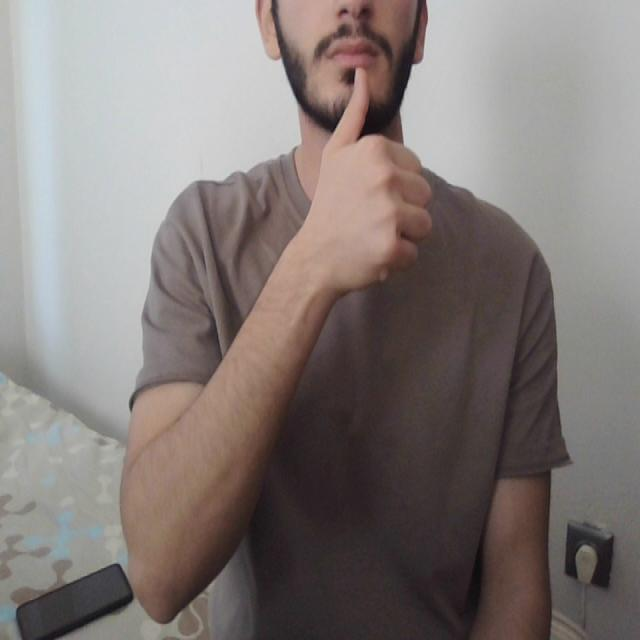Baba: (318, 30, 390, 134)
